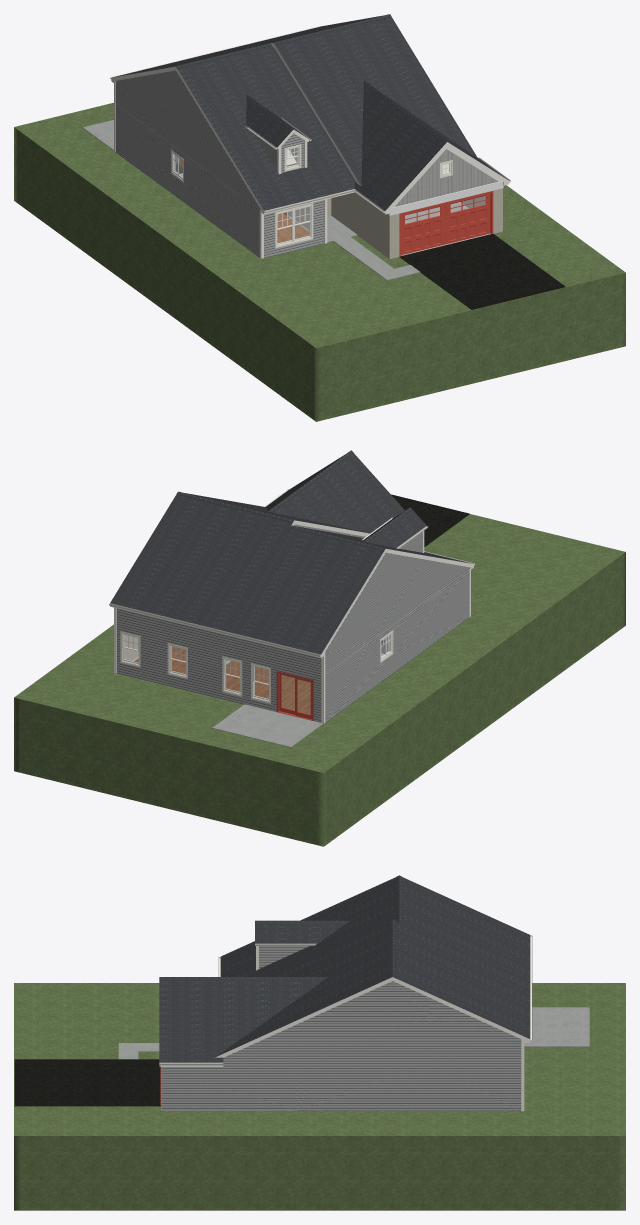
The model's file is percyA.dae.
3 views of the same model, one above another, from view 1: azimuth 30°, elevation 25°; view 2: azimuth 150°, elevation 25°; view 3: azimuth 270°, elevation 25° (orthographic).
Visible parts, largest first — view 1: geo_132, geo_131, geo_136, geo_142, geo_11, geo_146, geo_86, geo_61, geo_135, geo_127, geo_95; view 2: geo_132, geo_131, geo_136, geo_11, geo_61, geo_127, geo_71, geo_142, geo_146; view 3: geo_132, geo_131, geo_136, geo_142, geo_61, geo_11.
Part boxes in pixels (box(x1,y1,x2,y2)): geo_132: box(14, 102, 625, 421); geo_131: box(112, 14, 507, 210); geo_136: box(115, 48, 354, 258); geo_142: box(399, 234, 565, 309); geo_11: box(110, 26, 510, 258); geo_146: box(283, 191, 493, 256); geo_86: box(327, 188, 502, 258); geo_61: box(82, 120, 466, 280); geo_135: box(395, 149, 498, 206); geo_127: box(173, 147, 485, 242); geo_95: box(387, 181, 503, 215); geo_132: box(14, 514, 625, 846); geo_131: box(110, 450, 472, 654); geo_136: box(117, 524, 470, 723); geo_11: box(109, 489, 474, 723); geo_61: box(212, 704, 322, 747); geo_127: box(124, 634, 390, 714); geo_71: box(134, 646, 310, 714); geo_142: box(391, 494, 469, 546); geo_146: box(276, 671, 313, 720); geo_132: box(14, 983, 625, 1210); geo_131: box(159, 875, 530, 1062); geo_136: box(161, 946, 521, 1110); geo_142: box(14, 1059, 160, 1106); geo_61: box(118, 1007, 589, 1110); geo_11: box(159, 935, 532, 1111).
Bounding box in the file's own units: 660 × 1115 × 422.
Materials: 45 (20 with a texture image).
